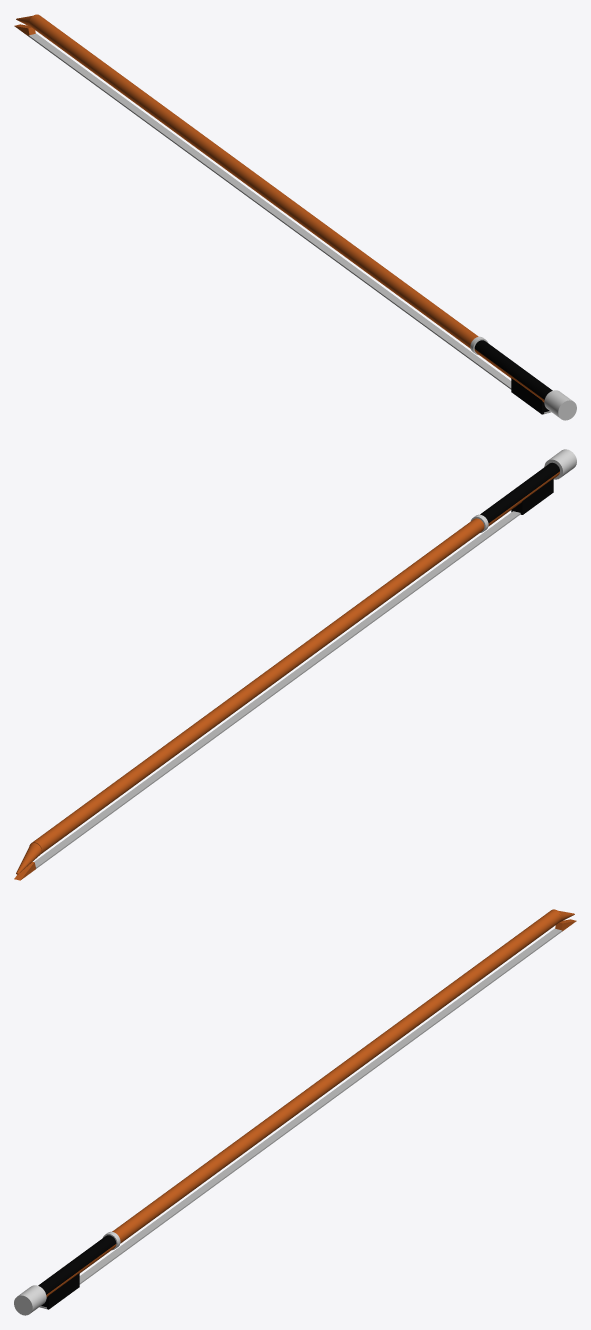
3 renders of one model, top to bottom at view 1: azimuth 30°, elevation 25°; view 2: azimuth 150°, elevation 25°; view 3: azimuth 330°, elevation 25°, orthographic.
Visible parts, largest first — view 1: slender_probe; view 2: slender_probe; view 3: slender_probe.
Boxes of the visible parts, x1,y1,x2,y2 form: slender_probe: (14,14,576,420); slender_probe: (14,449,576,880); slender_probe: (14,909,576,1315).
Size of the model in its own units: 0.0147 by 0.0206 by 0.7495.
